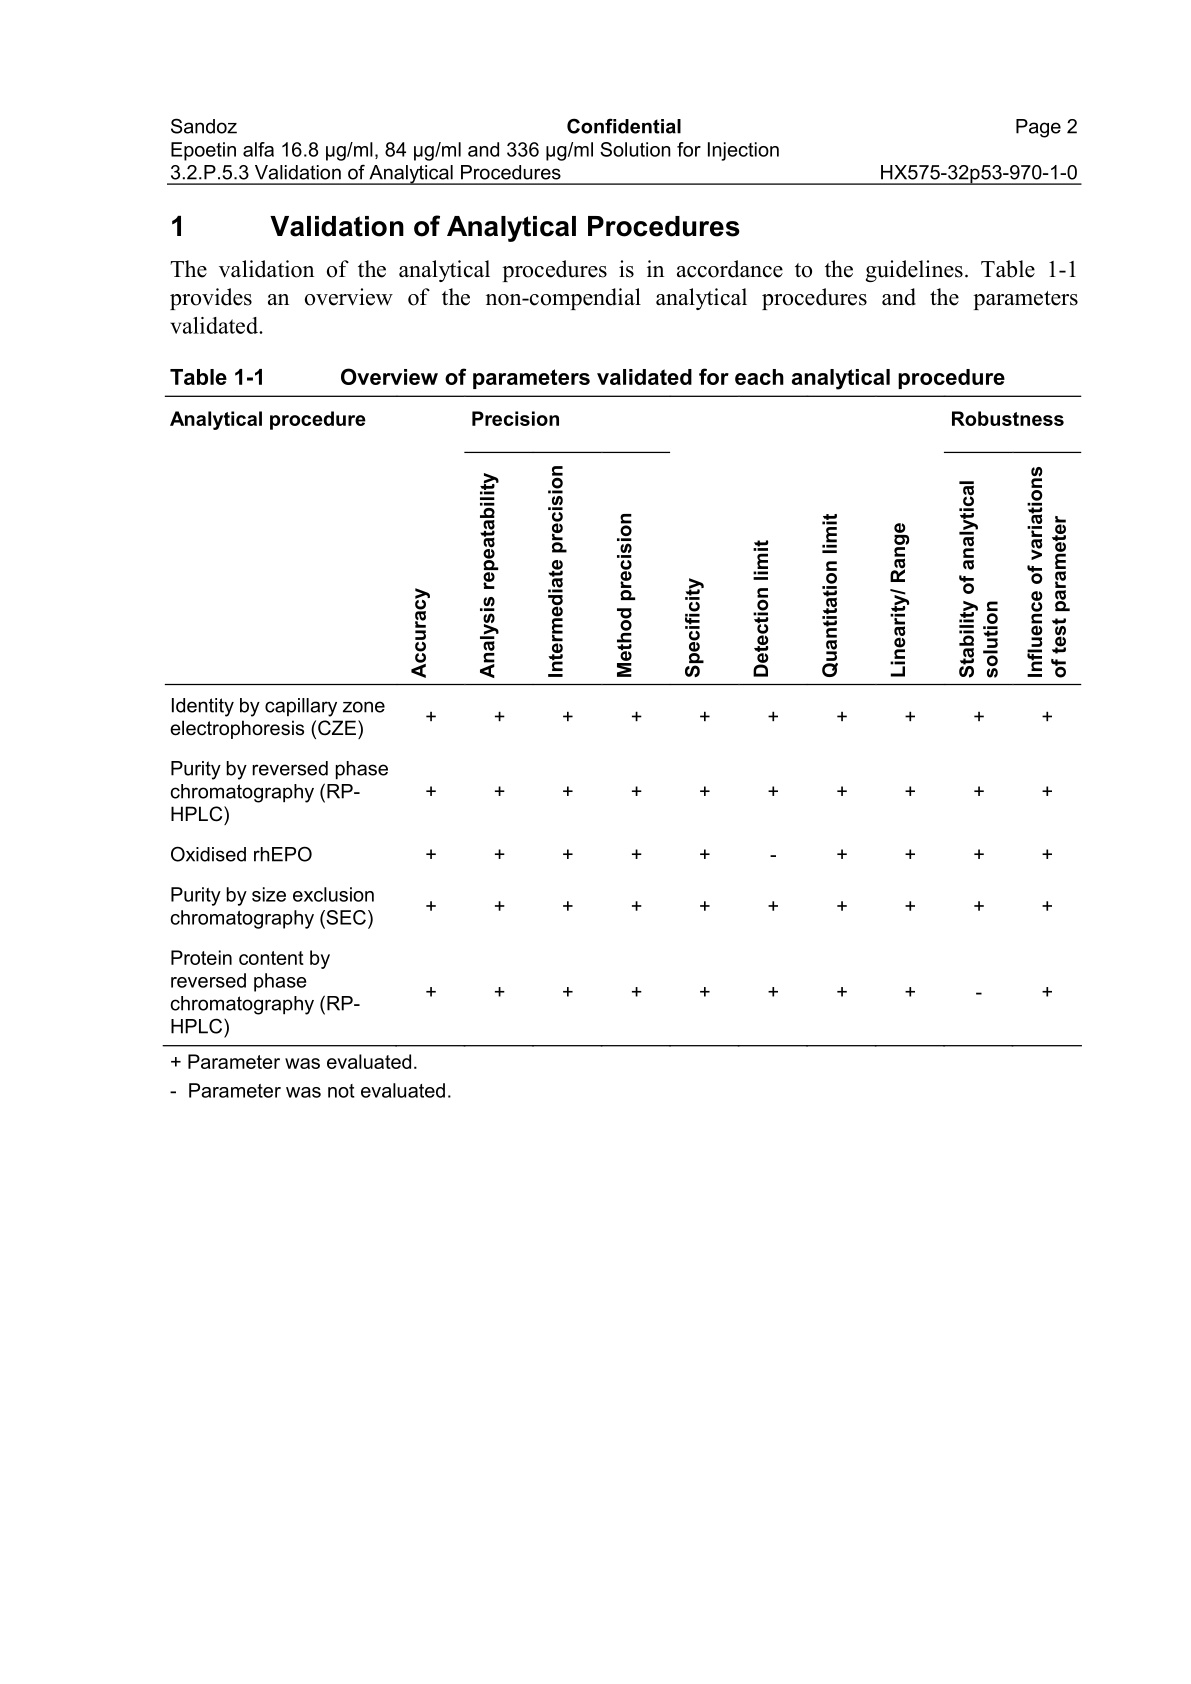partial_lined: (165, 393, 1081, 1049)
